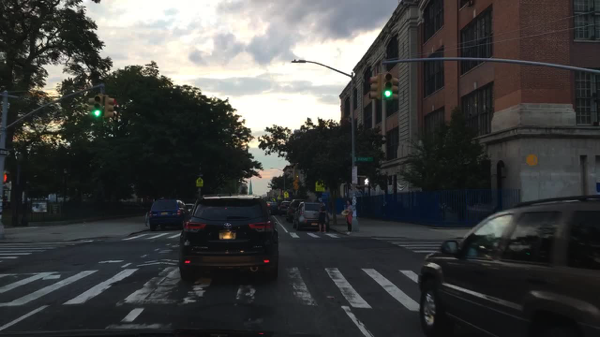car: (417, 196, 599, 337), (180, 193, 281, 282), (149, 199, 185, 231), (293, 204, 322, 230), (285, 199, 308, 225), (265, 199, 279, 218), (275, 201, 290, 216), (186, 202, 194, 216)
person: (317, 202, 328, 236), (345, 198, 354, 234)
traffic light: (383, 72, 393, 98), (368, 74, 378, 99), (105, 97, 116, 119), (94, 93, 103, 118), (87, 99, 96, 120), (392, 78, 400, 101), (2, 172, 12, 184), (359, 177, 370, 186)
traffic sign: (353, 157, 374, 162), (316, 181, 325, 192), (196, 178, 204, 188), (0, 149, 10, 156), (285, 193, 289, 198)
